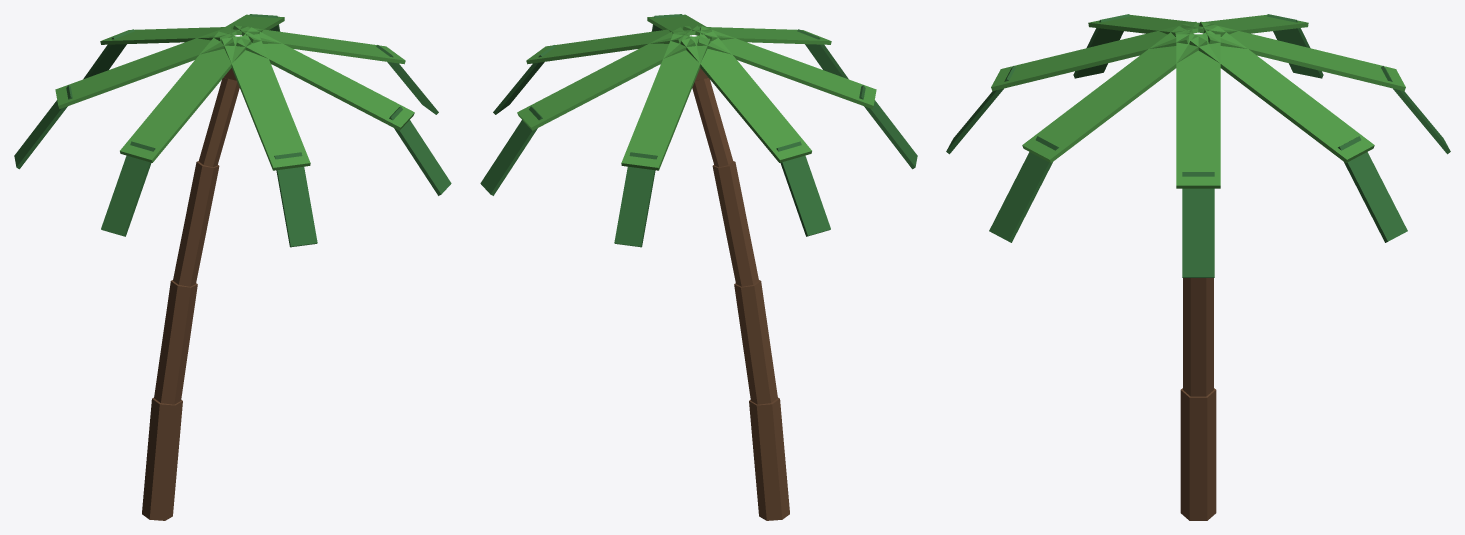
File: palm.glb
3 renders of one model, left to right at view 1: azimuth 30°, elevation 25°; view 2: azimuth 150°, elevation 25°; view 3: azimuth 270°, elevation 25°, orthographic. The views are drawn at different scales.
Parts seen in each view (by area): view 1: palm_Body; view 2: palm_Body; view 3: palm_Body.
Boxes of the visible parts, x1,y1,x2,y2 form: palm_Body: (14,14,451,520); palm_Body: (480,14,917,520); palm_Body: (946,14,1450,520).
Size of the model in its own units: 5.53 by 6.55 by 5.67.
